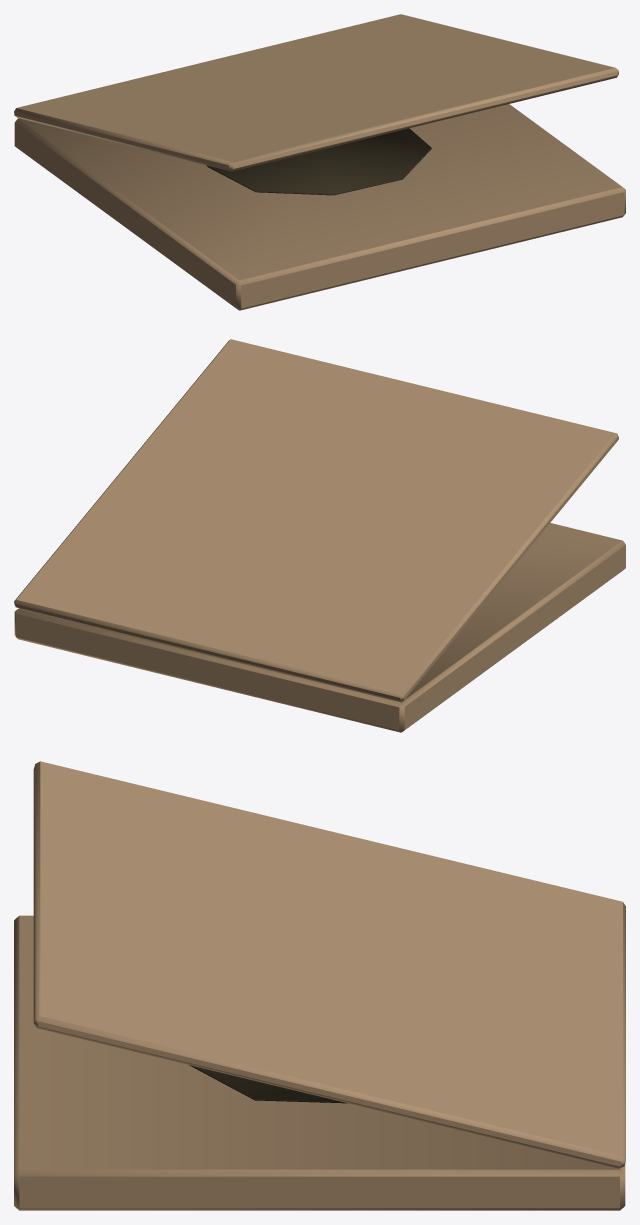
Rendered from pizza_box.glb.
The picture shows the model from 3 angles, top to bottom: view 1: azimuth 30°, elevation 25°; view 2: azimuth 150°, elevation 25°; view 3: azimuth 270°, elevation 25°; orthographic projection. The views are drawn at different scales.
Visible parts, largest first — view 1: pizza_box; view 2: pizza_box; view 3: pizza_box.
Boxes of the visible parts, x1,y1,x2,y2 form: pizza_box: (14,14,625,310); pizza_box: (14,339,625,732); pizza_box: (14,761,625,1210).
Bounding box in the file's own units: 0.35 × 0.1232 × 0.3504.
